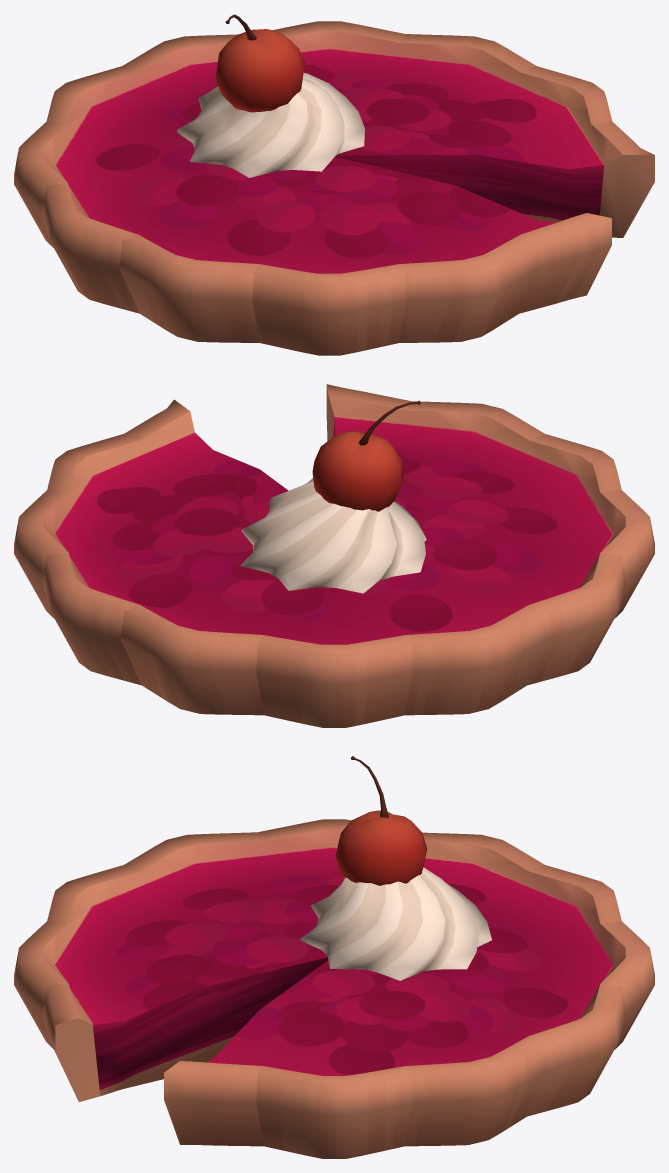
Rendered from m_pieV3.fbx.
3 renders of one model, top to bottom at view 1: azimuth 30°, elevation 25°; view 2: azimuth 150°, elevation 25°; view 3: azimuth 270°, elevation 25°, orthographic.
Parts seen in each view (by area): view 1: pieV3; view 2: pieV3; view 3: pieV3.
Part boxes in pixels (x1,y1,x2,y2): pieV3: [14, 14, 654, 355]; pieV3: [14, 384, 654, 727]; pieV3: [14, 756, 654, 1158].
Size of the model in its own units: 33.02 by 13.38 by 33.02.
